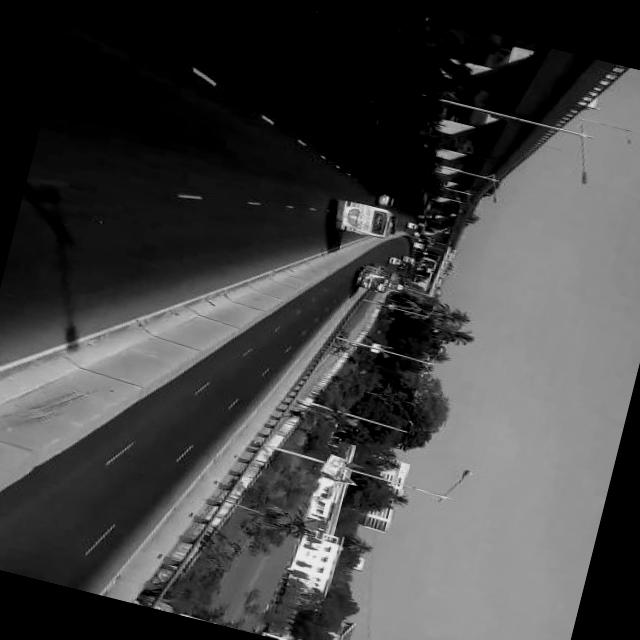bus: (328, 193, 401, 243), (351, 258, 398, 296)
